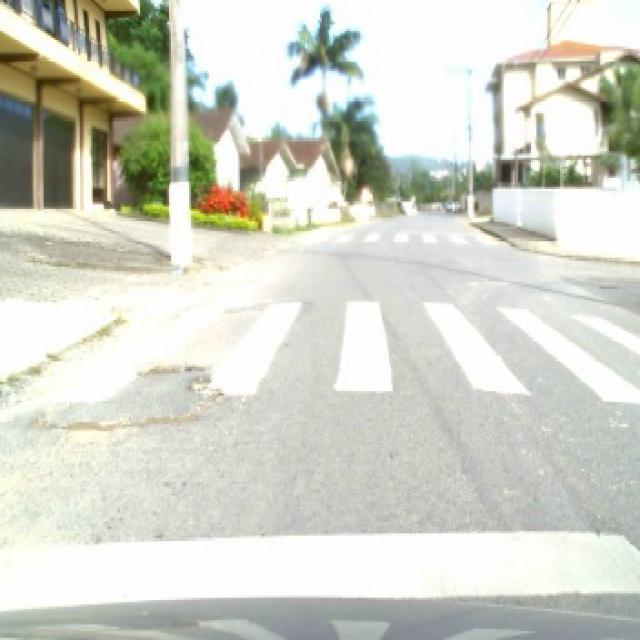Poth-hole: (32, 360, 228, 433)
